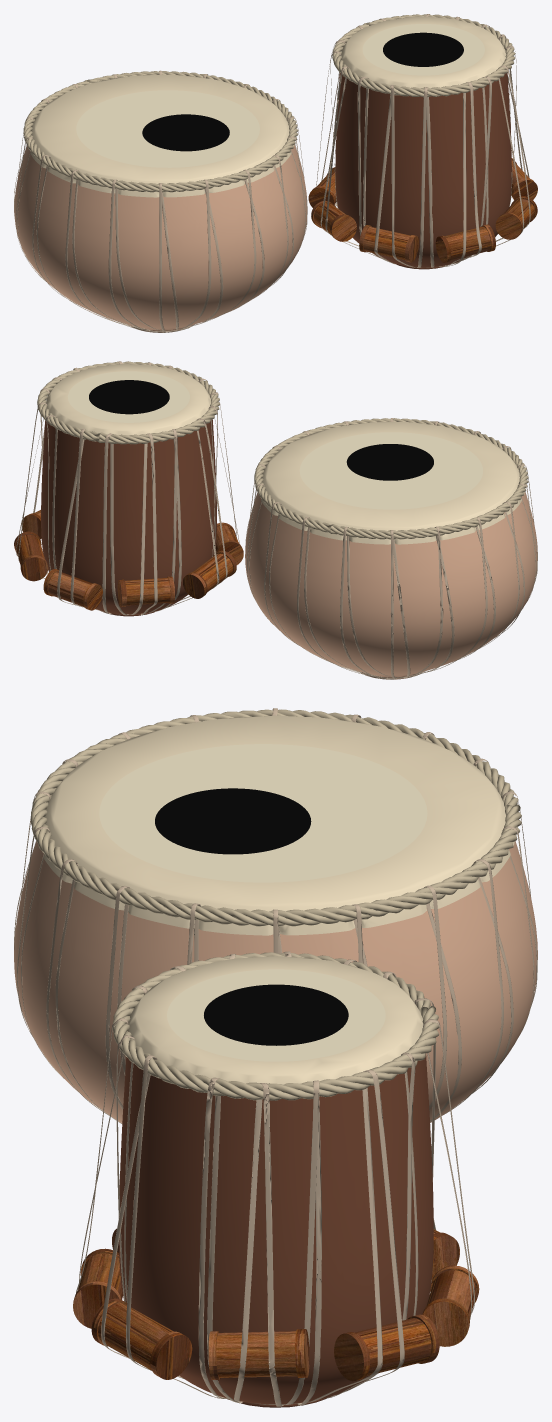
The model's file is tabla.glb.
3 renders of one model, top to bottom at view 1: azimuth 30°, elevation 25°; view 2: azimuth 150°, elevation 25°; view 3: azimuth 270°, elevation 25°, orthographic. The views are drawn at different scales.
Parts seen in each view (by area): view 1: drum-bayan-0, drum-dayan-0; view 2: drum-bayan-0, drum-dayan-0; view 3: drum-dayan-0, drum-bayan-0.
Part boxes in pixels (x1,y1,x2,y2): drum-bayan-0: (14,70,307,332); drum-dayan-0: (308,14,537,269); drum-bayan-0: (245,418,537,679); drum-dayan-0: (14,361,243,616); drum-dayan-0: (73,951,479,1407); drum-bayan-0: (14,708,537,1123).
Bounding box in the file's own units: 24 × 9.52 × 12.42.
Materials: 16 (8 with a texture image).
